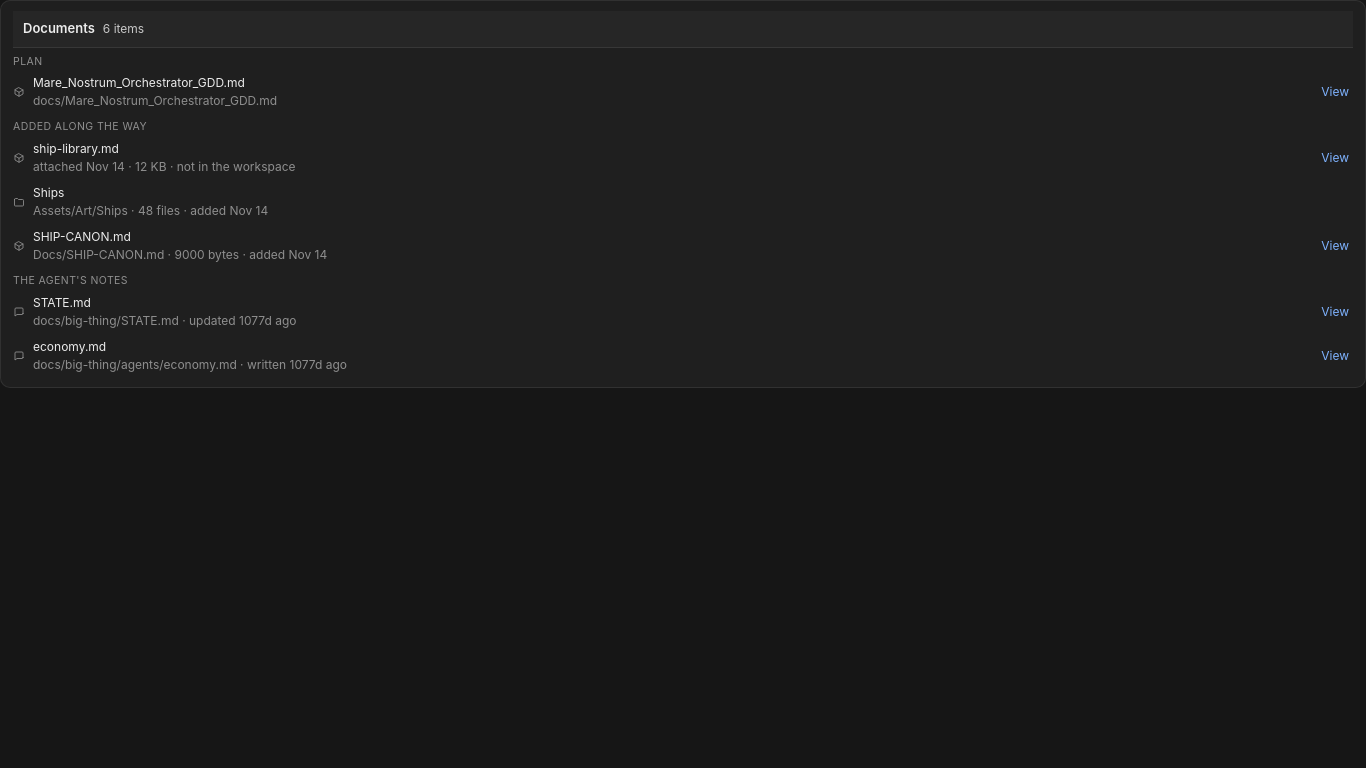
Test: the documents card › opens the agent's handoff note
The image size is (1366, 768).
Click the 4th button "View".
click(1335, 312)  # box [1317,303,1353,321]
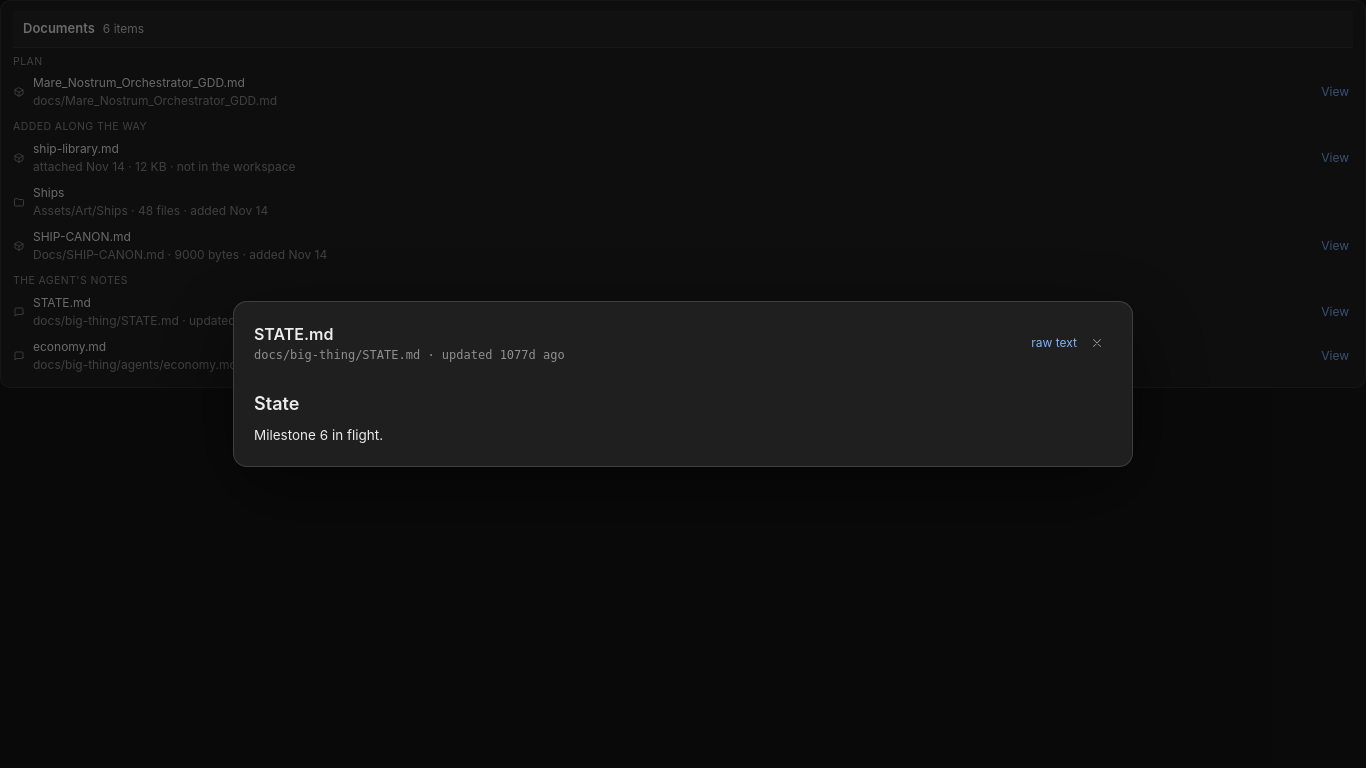
Check: the text "Milestone 6 in flight." is shown, box [254,427,383,443]
